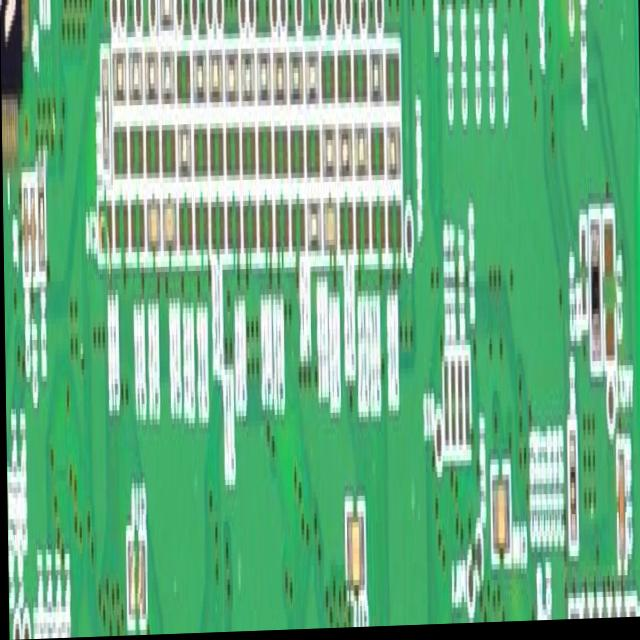IC: (0, 0, 33, 168)
capacitor: (488, 463, 510, 568), (343, 498, 364, 602), (601, 213, 615, 368), (124, 536, 146, 634), (615, 444, 625, 580), (339, 189, 354, 267), (225, 192, 241, 265), (386, 198, 403, 266), (273, 196, 289, 268), (354, 194, 369, 269), (242, 192, 258, 260), (113, 191, 129, 258), (145, 195, 161, 261), (161, 189, 177, 254), (178, 194, 193, 260), (323, 190, 338, 256), (258, 197, 273, 263), (97, 196, 112, 261), (209, 193, 225, 253), (129, 195, 144, 258), (371, 199, 385, 263), (21, 173, 29, 282), (194, 193, 208, 254), (579, 224, 587, 329), (29, 178, 36, 287), (566, 602, 578, 624), (580, 597, 589, 623), (599, 597, 607, 623), (589, 602, 598, 623), (619, 601, 626, 622), (609, 601, 616, 622)
resistor: (588, 219, 601, 384), (100, 44, 111, 184), (383, 46, 400, 120), (304, 43, 320, 121), (191, 36, 207, 110), (36, 156, 46, 274), (305, 190, 322, 257), (111, 38, 127, 109), (352, 47, 368, 117), (368, 125, 385, 190), (177, 120, 193, 189), (176, 42, 191, 115), (223, 46, 240, 110), (384, 125, 401, 189), (209, 125, 225, 192), (288, 43, 303, 114), (143, 48, 160, 110), (160, 42, 175, 112), (240, 45, 255, 115), (144, 121, 160, 185), (321, 116, 337, 180), (130, 117, 145, 185), (193, 120, 208, 188), (208, 41, 222, 113), (127, 48, 143, 111), (337, 116, 353, 179), (256, 50, 271, 117), (336, 47, 351, 114), (112, 123, 128, 184), (305, 127, 321, 188), (272, 49, 287, 113), (368, 52, 383, 116), (257, 123, 272, 187), (225, 124, 241, 183), (241, 124, 256, 185), (353, 126, 368, 187), (321, 43, 335, 108), (441, 360, 450, 461), (161, 121, 176, 180), (289, 122, 304, 181), (449, 349, 457, 457), (456, 354, 464, 461), (274, 123, 288, 184), (463, 354, 470, 452), (160, 0, 174, 26), (628, 601, 634, 622)
